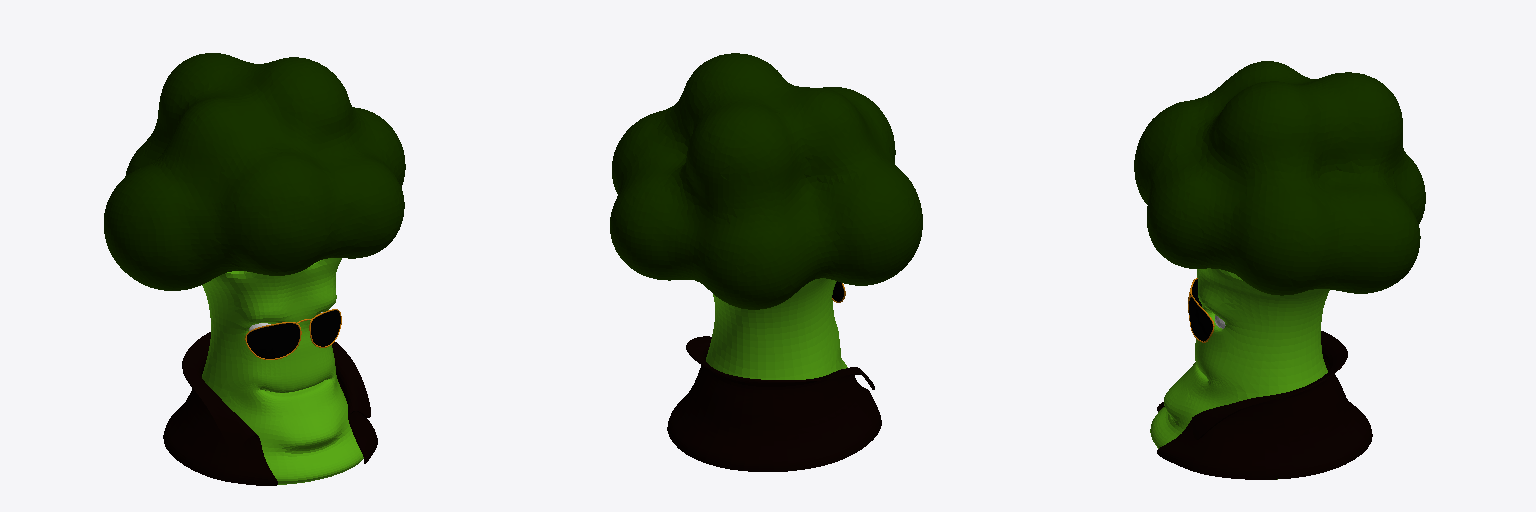
Rendered from broccoli.obj.
The picture shows the model from 3 angles: view 1: azimuth 30°, elevation 25°; view 2: azimuth 150°, elevation 25°; view 3: azimuth 270°, elevation 25°; orthographic projection.
Parts seen in each view (by area): view 1: body_combined_Mesh, shades_Plane; view 2: body_combined_Mesh; view 3: body_combined_Mesh, shades_Plane.
Boxes of the visible parts, x1=… form: body_combined_Mesh: x1=104, y1=53, x2=405, y2=485; shades_Plane: x1=245, y1=309, x2=341, y2=359; body_combined_Mesh: x1=610, y1=53, x2=922, y2=471; body_combined_Mesh: x1=1134, y1=61, x2=1425, y2=479; shades_Plane: x1=1188, y1=278, x2=1214, y2=342.
Size of the model in its own units: 4.44 by 5.48 by 3.88.